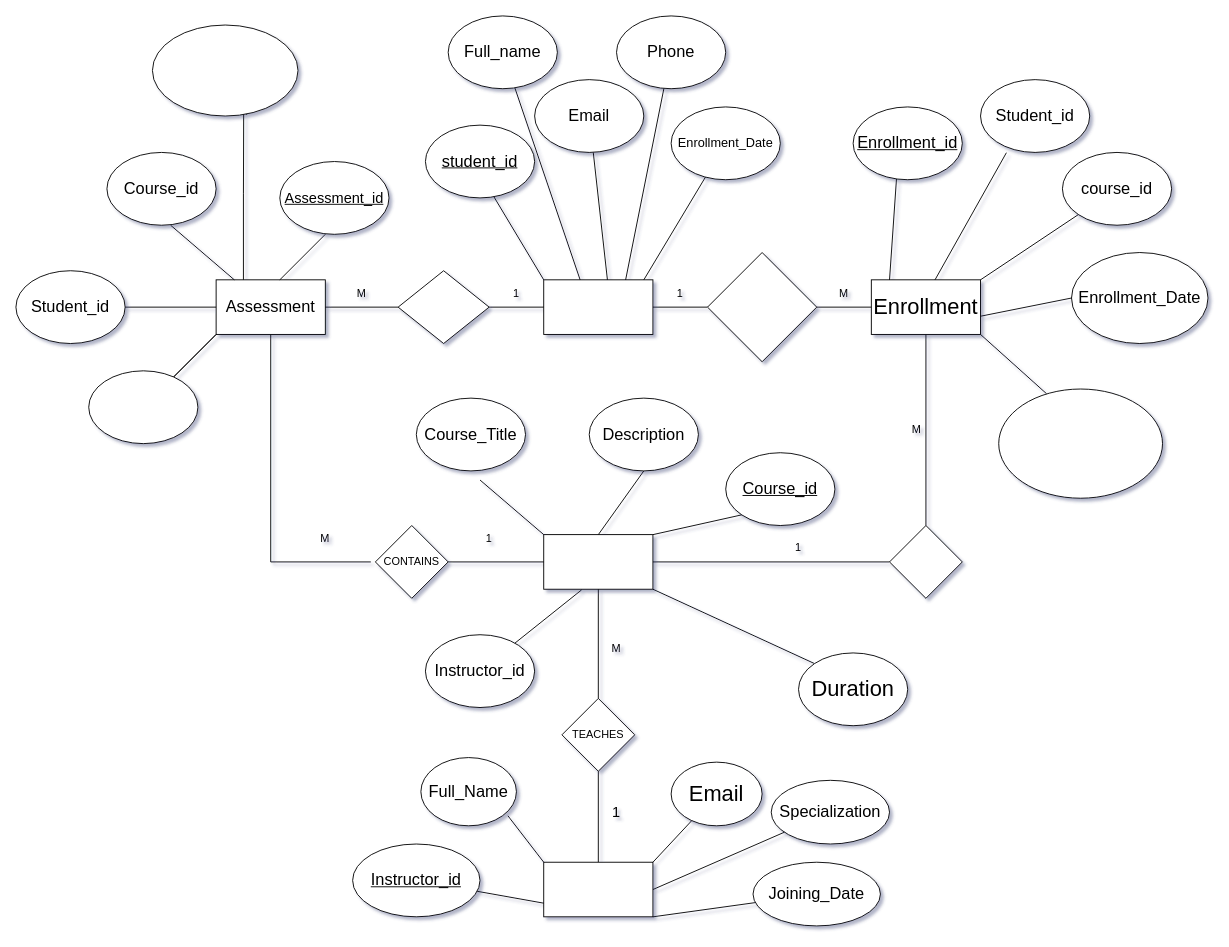
This 1229x947 diagram has some shape labels left out. Each missing label, with the centre of its shape:
Assessment_Date: point 225,70
ATTEMPTS: point 443,307
Course: point 598,561
HAS: point 925,561
Instructor: point 598,889
Marks_Obtained: point 143,407
Progress percentage: point 1080,443
REGISTERS: point 762,307
Student: point 598,306
